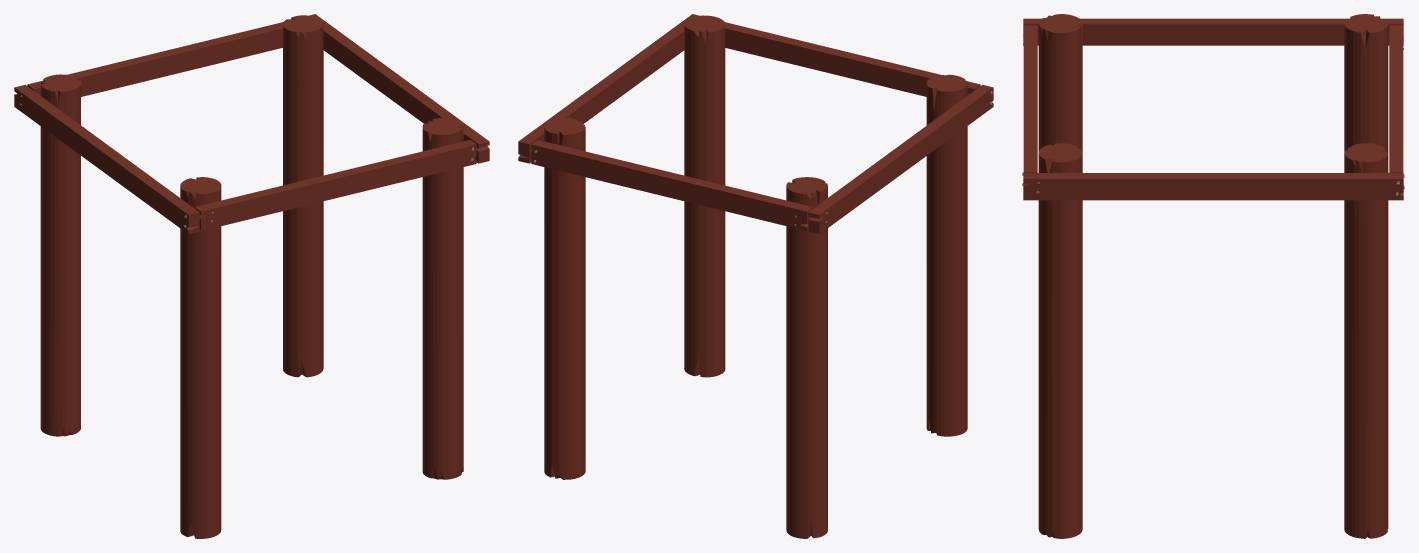
File: deck no platforms.fbx
The picture shows the model from 3 angles, left to right: view 1: azimuth 30°, elevation 25°; view 2: azimuth 150°, elevation 25°; view 3: azimuth 270°, elevation 25°; orthographic projection. The views are drawn at different scales.
Parts seen in each view (by area): view 1: Cylinder.002, Cylinder.003, Cylinder.001, Cylinder, Cube.002, Cube.001, Cube.003, Cube; view 2: Cylinder.002, Cylinder.001, Cylinder, Cylinder.003, Cube.003, Cube.001, Cube.002, Cube; view 3: Cylinder.001, Cylinder.002, Cube, Cube.001, Cylinder, Cylinder.003, Cube.003, Cube.002.
Boxes of the visible parts, x1,y1,x2,y2 form: Cylinder.002: [422, 118, 463, 479]; Cylinder.003: [180, 177, 221, 538]; Cylinder.001: [283, 15, 323, 377]; Cylinder: [40, 74, 80, 436]; Cube.002: [194, 140, 476, 230]; Cube.001: [14, 84, 199, 234]; Cube.003: [27, 22, 283, 96]; Cube: [309, 14, 489, 163]; Cylinder.002: [684, 15, 725, 377]; Cylinder.001: [544, 118, 585, 479]; Cylinder: [786, 177, 827, 538]; Cylinder.003: [926, 74, 967, 436]; Cube.003: [531, 140, 813, 230]; Cube.001: [808, 84, 993, 234]; Cube.002: [724, 22, 980, 96]; Cube: [518, 14, 698, 163]; Cylinder.001: [1344, 143, 1388, 538]; Cylinder.002: [1038, 143, 1082, 538]; Cube: [1023, 173, 1403, 200]; Cube.001: [1023, 18, 1403, 45]; Cylinder: [1344, 14, 1388, 157]; Cylinder.003: [1038, 14, 1082, 152]; Cube.003: [1389, 25, 1404, 189]; Cube.002: [1022, 25, 1037, 185].
Bounding box in the file's own units: 1000 × 1092 × 1000.
